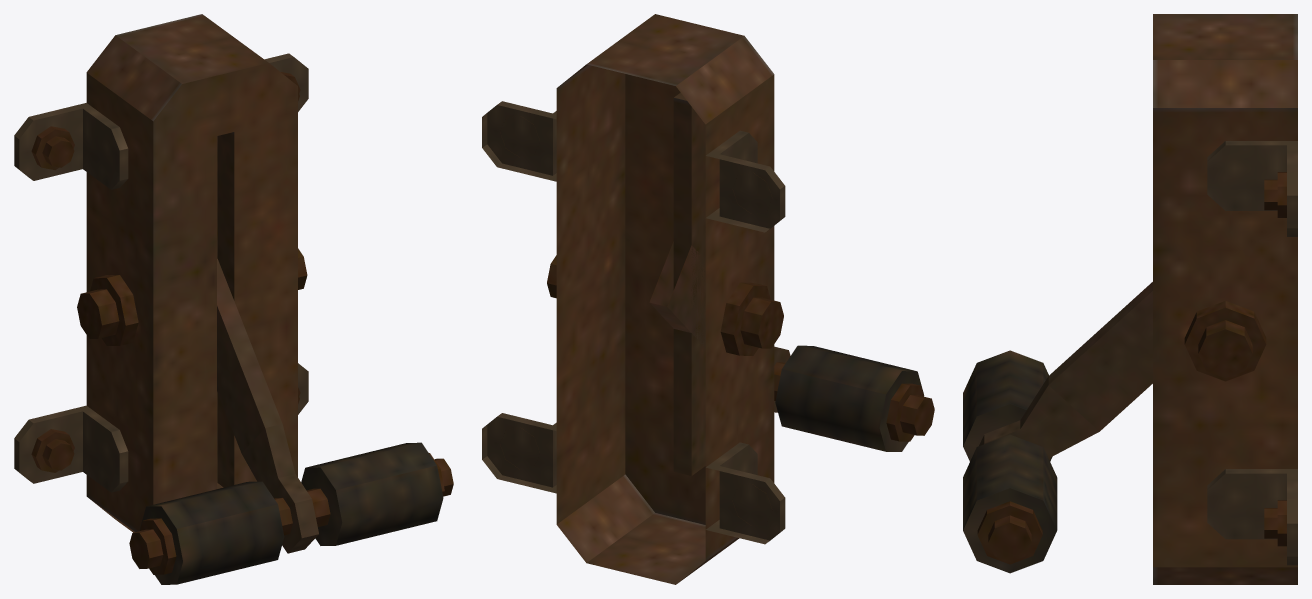
File: lever_etx_7.obj
3 views of the same model, side by side, from view 1: azimuth 30°, elevation 25°; view 2: azimuth 150°, elevation 25°; view 3: azimuth 270°, elevation 25° (orthographic). The views are drawn at different scales.
Parts seen in each view (by area): view 1: lever_etx_7, lever_etx_7_child; view 2: lever_etx_7, lever_etx_7_child; view 3: lever_etx_7, lever_etx_7_child.
Boxes of the visible parts, left/top/right/bottom form: lever_etx_7: left=14, top=14, right=308, bottom=532; lever_etx_7_child: left=129, top=258, right=453, bottom=584; lever_etx_7: left=482, top=14, right=785, bottom=584; lever_etx_7_child: left=649, top=241, right=934, bottom=451; lever_etx_7: left=1153, top=14, right=1297, bottom=584; lever_etx_7_child: left=963, top=282, right=1152, bottom=573.
Size of the model in its own units: 0.1894 by 0.288 by 0.1665.
